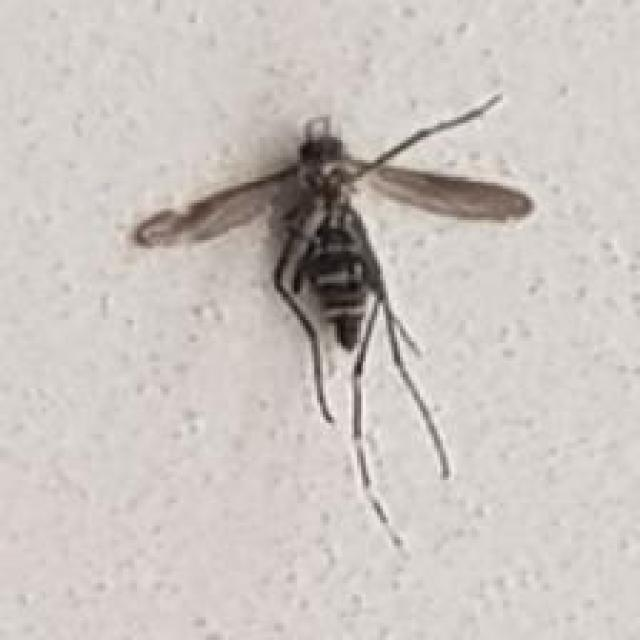Aedes albopictus: (130, 90, 536, 553)
